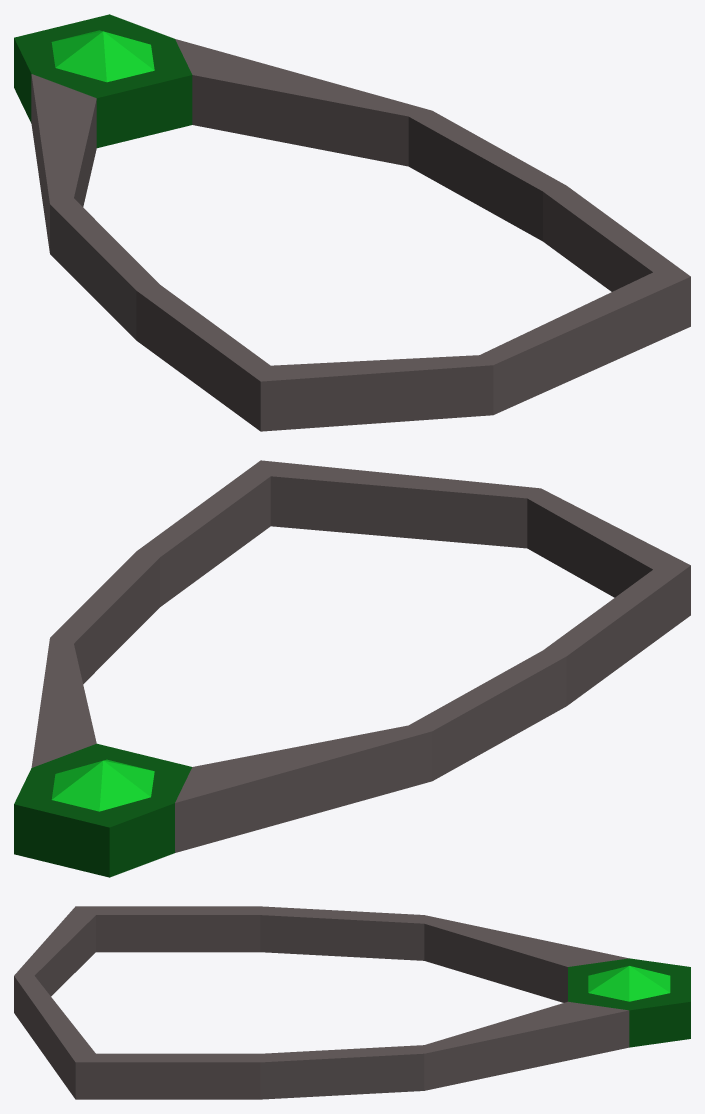
The model's file is inv_gnome_amulet.obj.
3 renders of one model, top to bottom at view 1: azimuth 30°, elevation 25°; view 2: azimuth 150°, elevation 25°; view 3: azimuth 270°, elevation 25°, orthographic. The views are drawn at different scales.
Size of the model in its own units: 0.1406 by 0.0234 by 0.2578.
